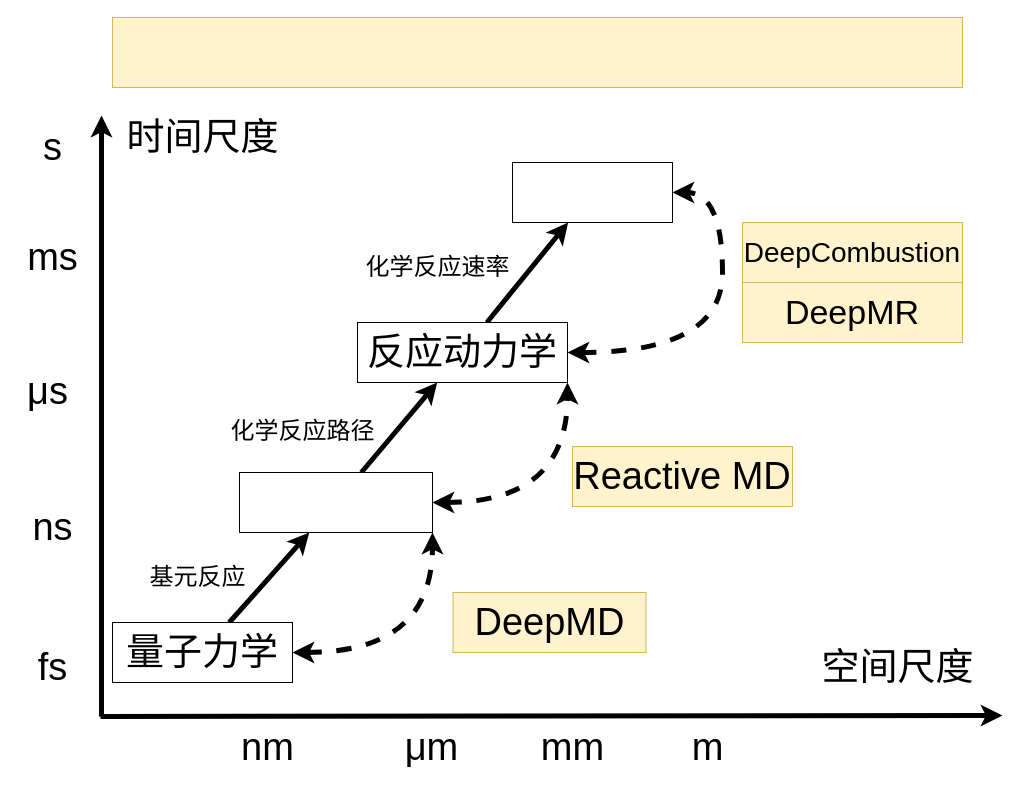
This 1030x790 diagram has some shape labels left out. The shapes that lost their labels are listed below. From the top down, each one's centre as x and y in pixels, then its label:
the point at 537,52: 机器学习在燃烧多尺度建模中的应用
the point at 592,192: 流体力学
the point at 335,502: 分子动力学
